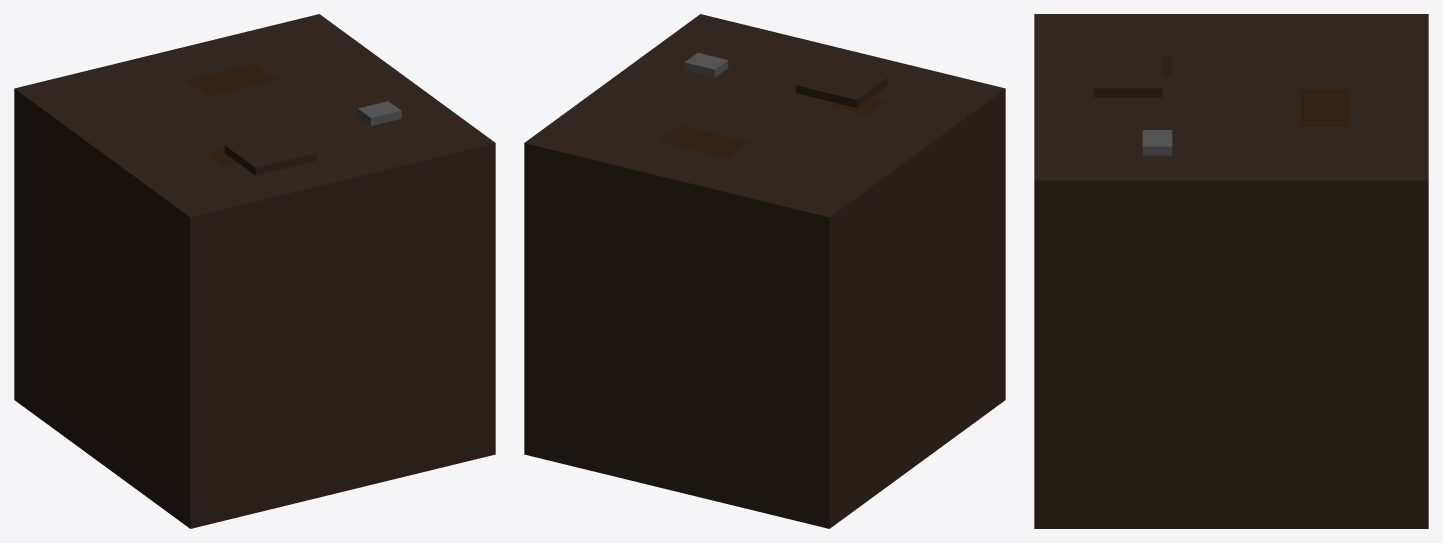
Rendered from DirtBlock2.obj.
The picture shows the model from 3 angles, left to right: view 1: azimuth 30°, elevation 25°; view 2: azimuth 150°, elevation 25°; view 3: azimuth 270°, elevation 25°; orthographic projection. The views are drawn at different scales.
Bounding box in the file's own units: 4 × 4 × 4.
Materials: 1 (1 with a texture image).
